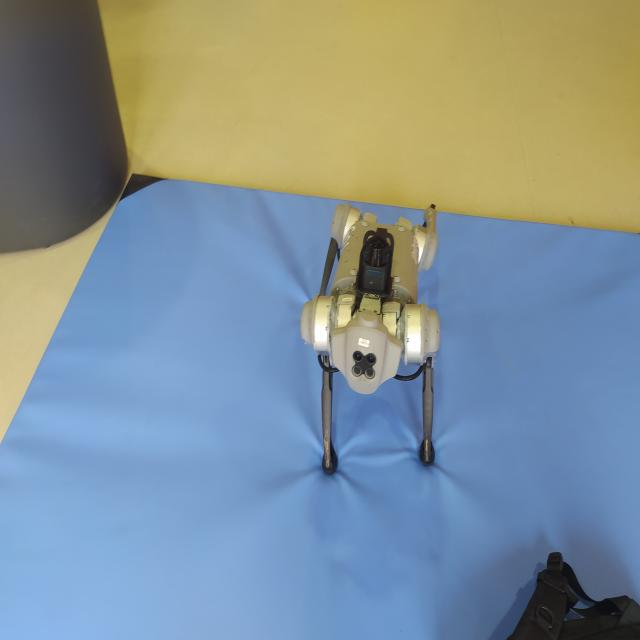unitree-go1-robot: (292, 185, 459, 496)
